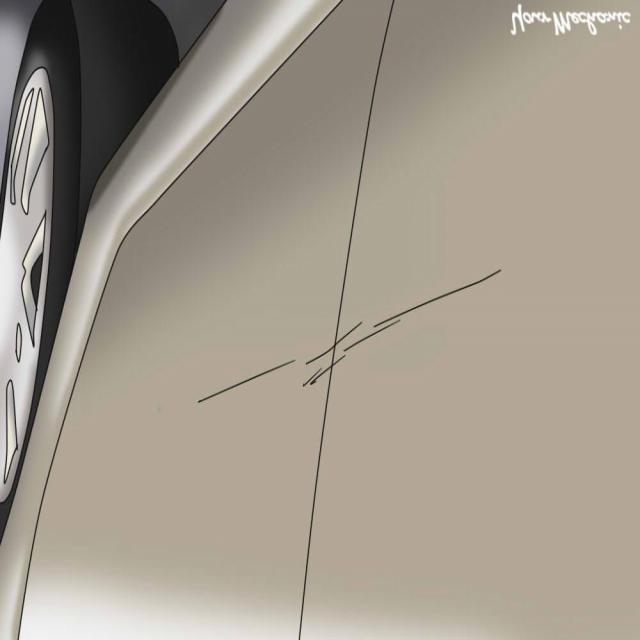scratch: (299, 262, 508, 412), (188, 347, 302, 410)
